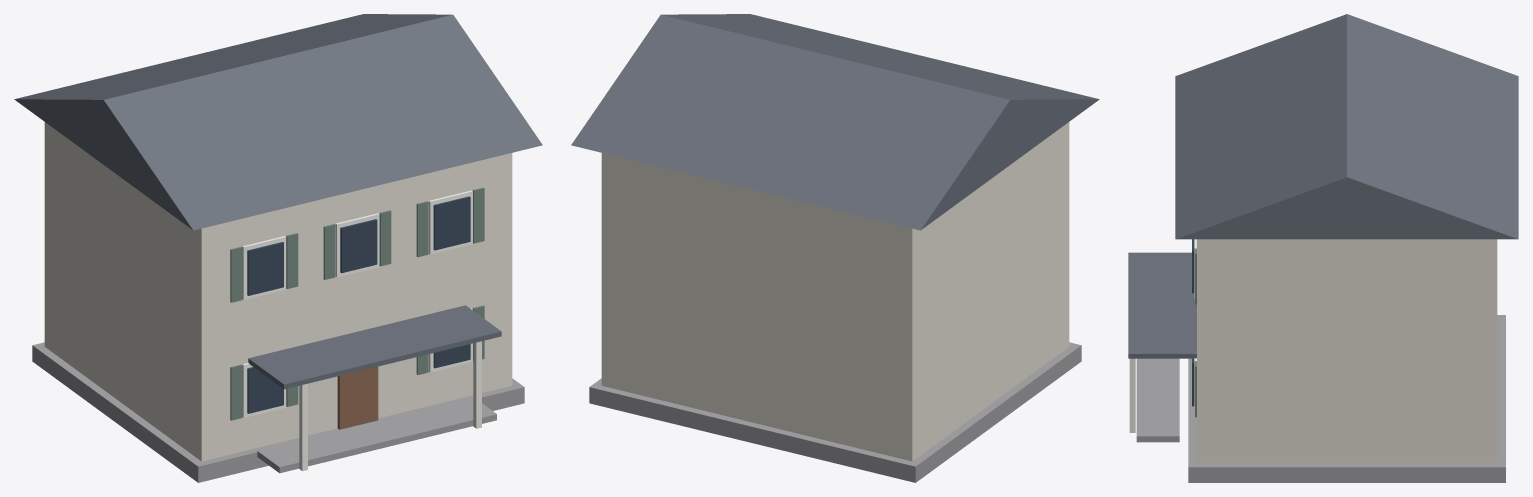
The model's file is house1.glb.
3 views of the same model, side by side, from view 1: azimuth 30°, elevation 25°; view 2: azimuth 150°, elevation 25°; view 3: azimuth 270°, elevation 25° (orthographic). The views are drawn at different scales.
Visible parts, largest first — view 1: House1; view 2: House1; view 3: House1.
Boxes of the visible parts, x1,y1,x2,y2 form: House1: (14,14,542,482); House1: (571,14,1099,482); House1: (1128,14,1518,482).
Size of the model in its own units: 9 by 8 by 9.1.
